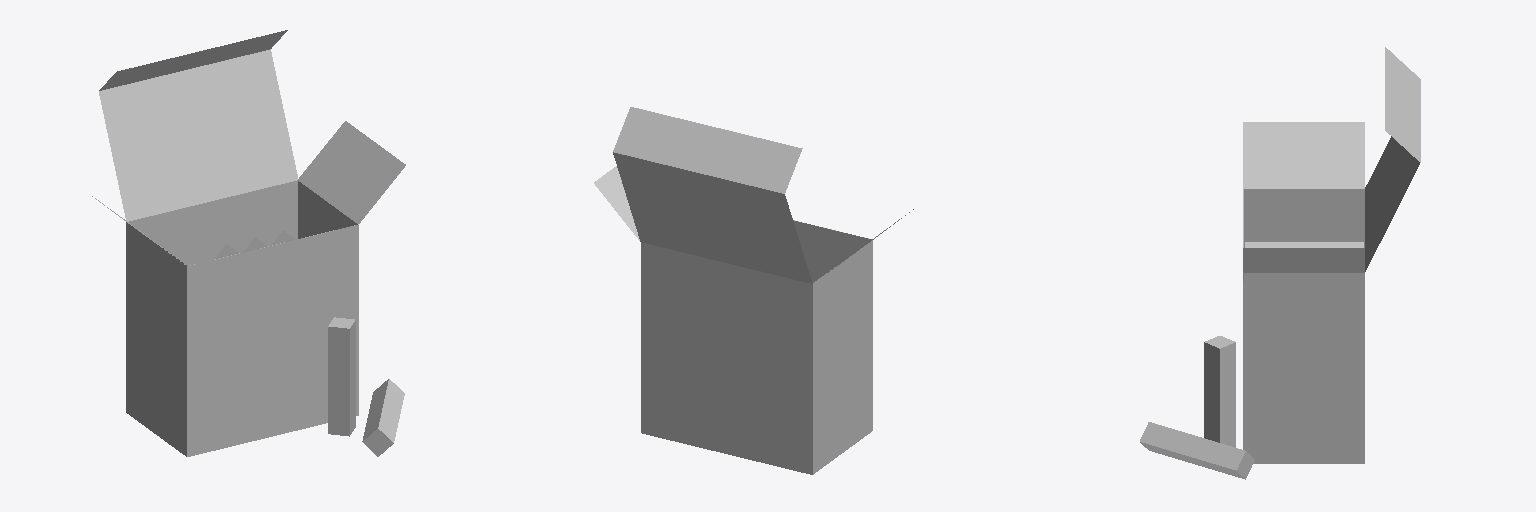
The model's file is 12g_red_240.obj.
3 renders of one model, left to right at view 1: azimuth 30°, elevation 25°; view 2: azimuth 150°, elevation 25°; view 3: azimuth 270°, elevation 25°, orthographic.
Parts seen in each view (by area): view 1: 12g_box_Green; view 2: 12g_box_Green; view 3: 12g_box_Green.
Part boxes in pixels (left/top/right/bottom): 12g_box_Green: left=92, top=30, right=405, bottom=456; 12g_box_Green: left=594, top=107, right=913, bottom=474; 12g_box_Green: left=1140, top=47, right=1420, bottom=479.
Bounding box in the file's own units: 0.4633 × 0.5599 × 0.4268.